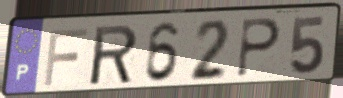2: (190, 18, 233, 84)
5: (289, 14, 329, 76)
6: (143, 20, 183, 85)
F: (41, 26, 89, 88)
P: (234, 17, 283, 80)
R: (89, 22, 140, 88)
